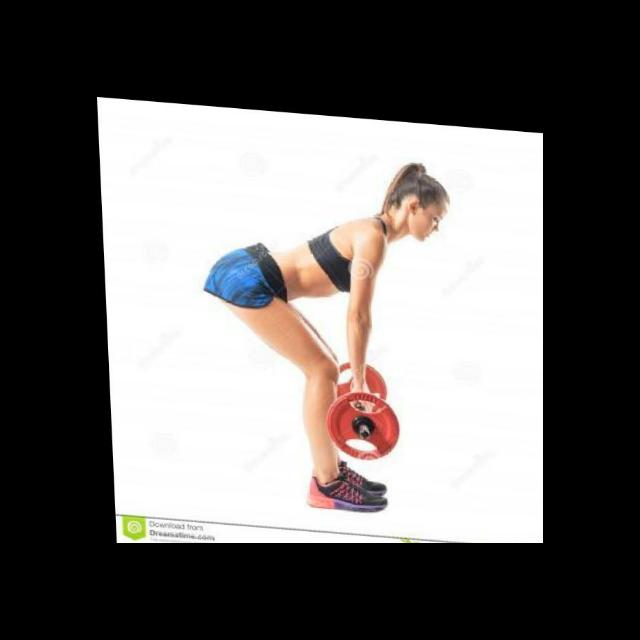barbell: (320, 384, 400, 460)
